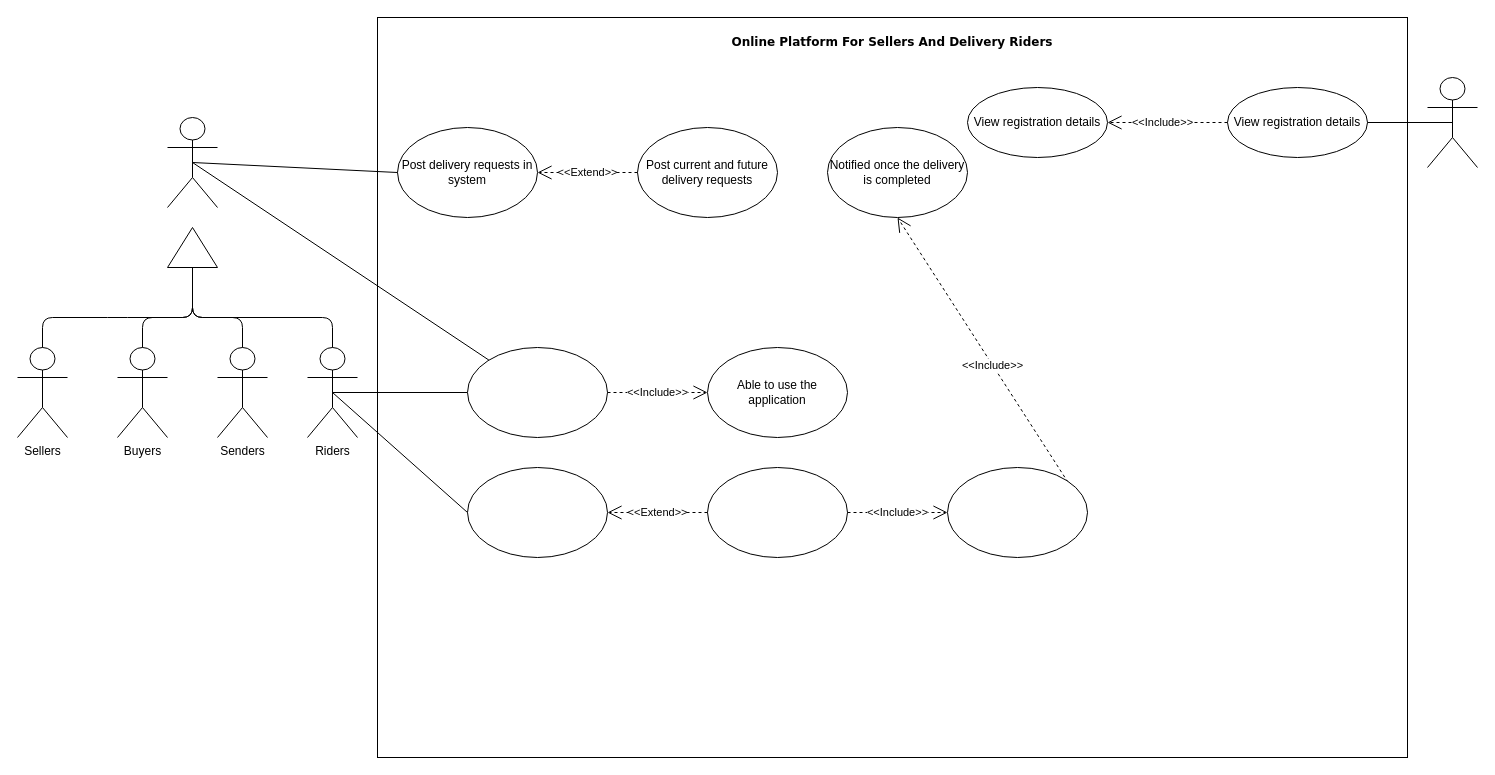
Image size: 1495x775. Some labels were removed from this diagram. Each missing label, with the centre of its shape:
Accept or decline customer's delivery request: [537,512]
Admin: [1452,122]
Customers: [192,162]
Delivery Complete: [1017,512]
Pickup and delivery for customers: [777,512]
Registration form filled in app: [537,392]
